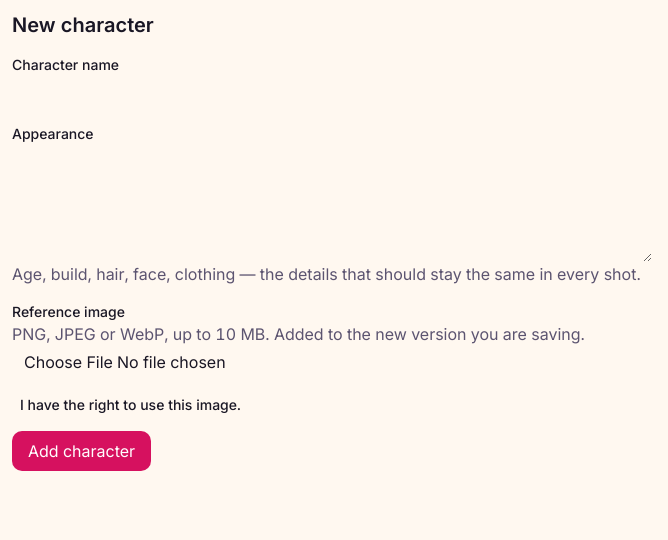
Test: character create form › marks both fields when both are empty
Click the button "Add character". click: (82, 451)
box: x1=12 y1=431 x2=151 y2=471
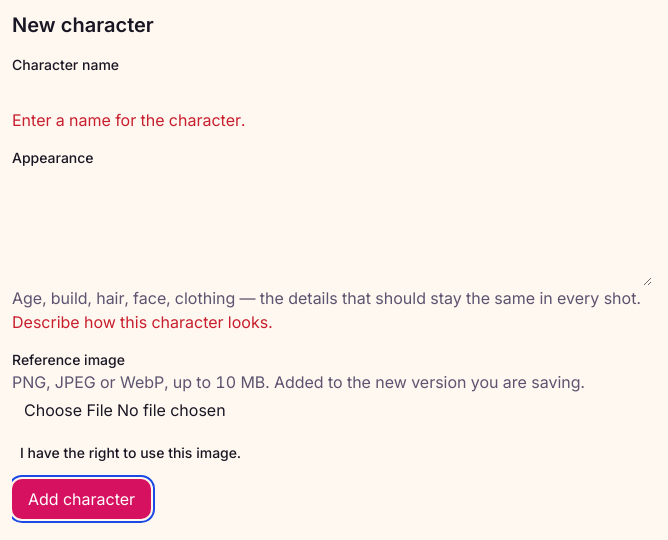
Now the text "Enter a name for the character." is shown, box x1=12 y1=110 x2=245 y2=130
Now the text "Describe how this character looks." is shown, box x1=12 y1=312 x2=272 y2=332
